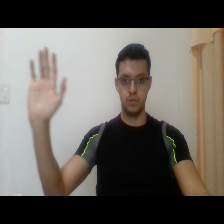left: (19, 43, 72, 125)
